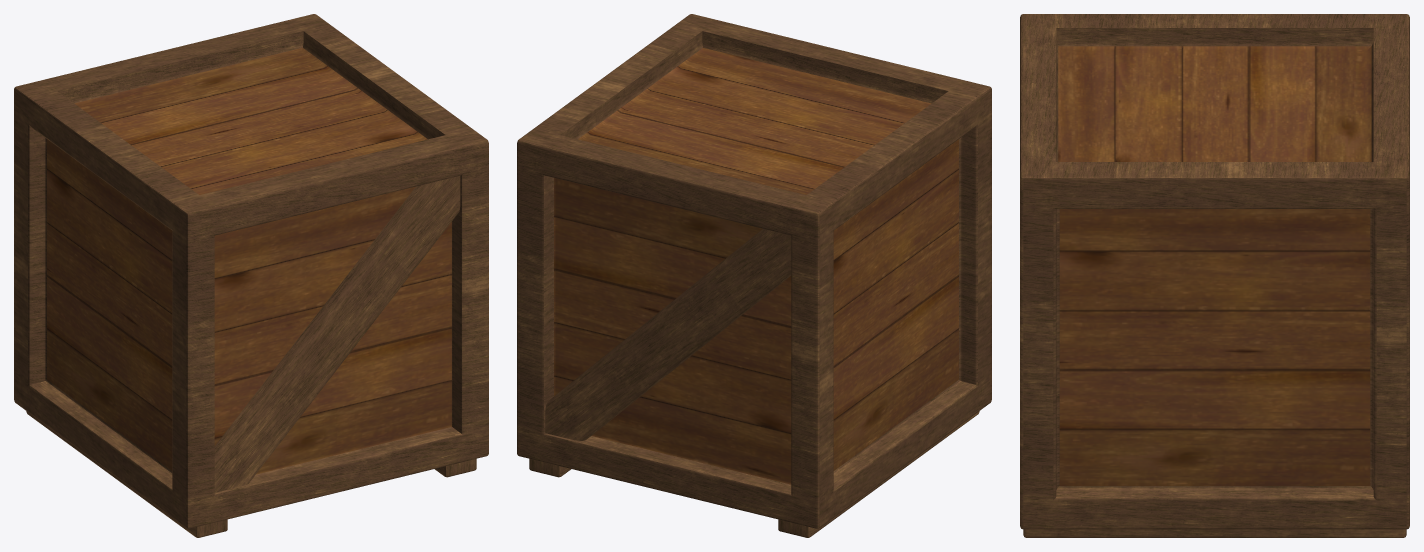
File: crateTest.fbx
3 views of the same model, side by side, from view 1: azimuth 30°, elevation 25°; view 2: azimuth 150°, elevation 25°; view 3: azimuth 270°, elevation 25° (orthographic). The views are drawn at different scales.
Visible parts, largest first — view 1: crateSmall_lo; view 2: crateSmall_lo; view 3: crateSmall_lo.
Boxes of the visible parts, box(x1,y1,x2,y2) form: crateSmall_lo: box(14, 14, 488, 537); crateSmall_lo: box(517, 14, 991, 537); crateSmall_lo: box(1020, 14, 1409, 537).
Size of the model in its own units: 1.47 by 1.53 by 1.47.
